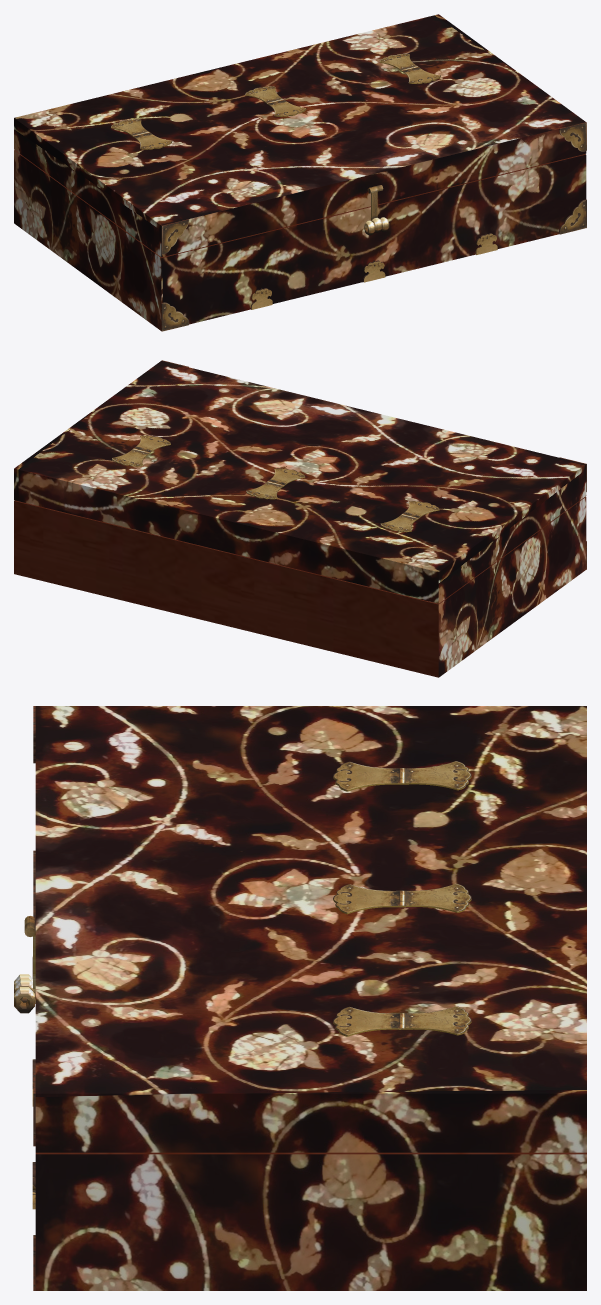
3 renders of one model, top to bottom at view 1: azimuth 30°, elevation 25°; view 2: azimuth 150°, elevation 25°; view 3: azimuth 270°, elevation 25°, orthographic. The views are drawn at different scales.
Parts seen in each view (by area): view 1: box lid, under the box, on the box; view 2: box lid, under the box, on the box; view 3: box lid, on the box, under the box.
Part boxes in pixels (bbox=[...]): box lid: bbox=[63, 50, 586, 257]; under the box: bbox=[14, 150, 586, 331]; on the box: bbox=[14, 14, 487, 184]; box lid: bbox=[63, 360, 586, 567]; under the box: bbox=[14, 496, 586, 677]; on the box: bbox=[14, 432, 487, 603]; box lid: bbox=[14, 706, 402, 1152]; on the box: bbox=[333, 706, 586, 1152]; under the box: bbox=[32, 850, 586, 1290].
Bounding box in the file's own units: 17.71 × 4.23 × 11.05.
